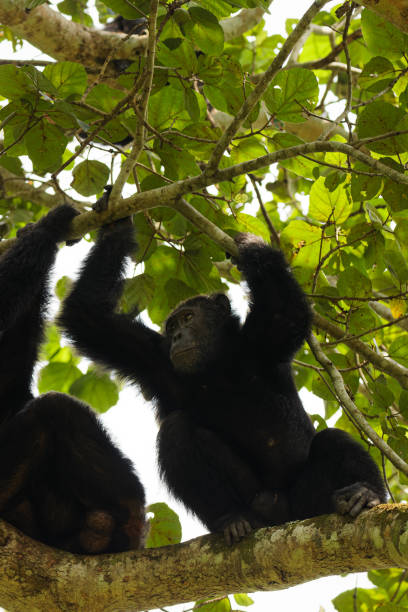chimpanzee: (124, 284, 242, 406)
